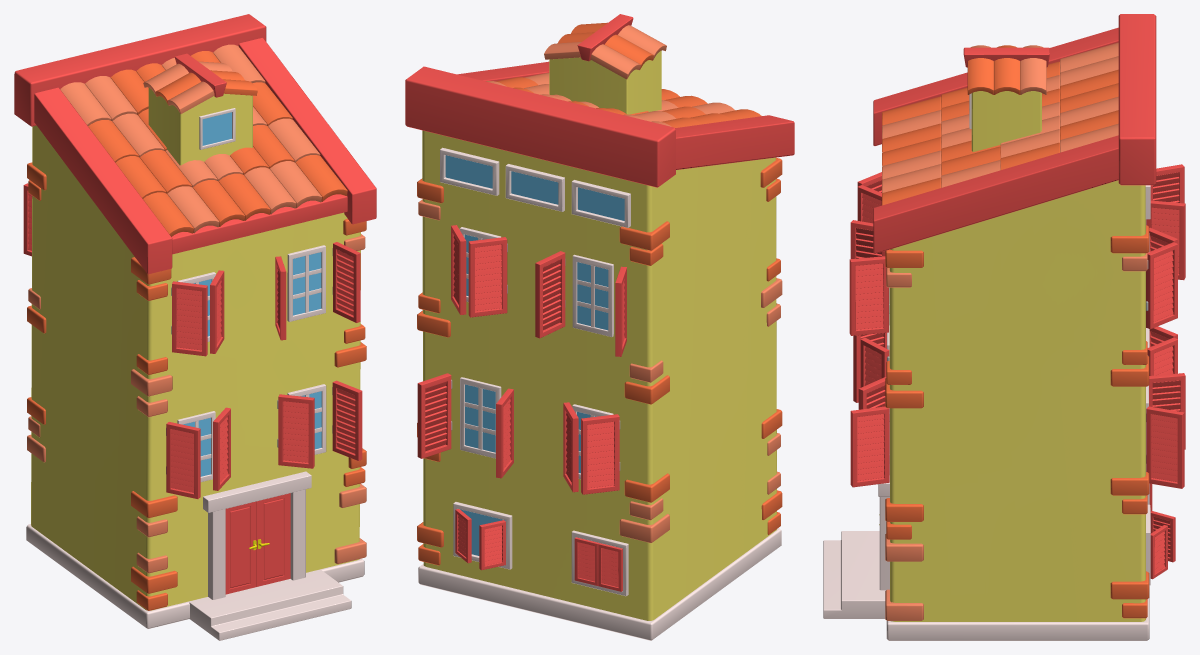
The model's file is City_14_House_1.glb.
The picture shows the model from 3 angles, left to right: view 1: azimuth 30°, elevation 25°; view 2: azimuth 150°, elevation 25°; view 3: azimuth 270°, elevation 25°; orthographic projection. The views are drawn at different scales.
Parts seen in each view (by area): view 1: City_14_House_1; view 2: City_14_House_1; view 3: City_14_House_1.
Part boxes in pixels (left/top/right/bottom): City_14_House_1: left=14, top=14, right=376, bottom=640; City_14_House_1: left=405, top=14, right=794, bottom=640; City_14_House_1: left=823, top=14, right=1185, bottom=640.
Bounding box in the file's own units: 5.97 × 11.91 × 7.32.
Materials: 1 (1 with a texture image).
